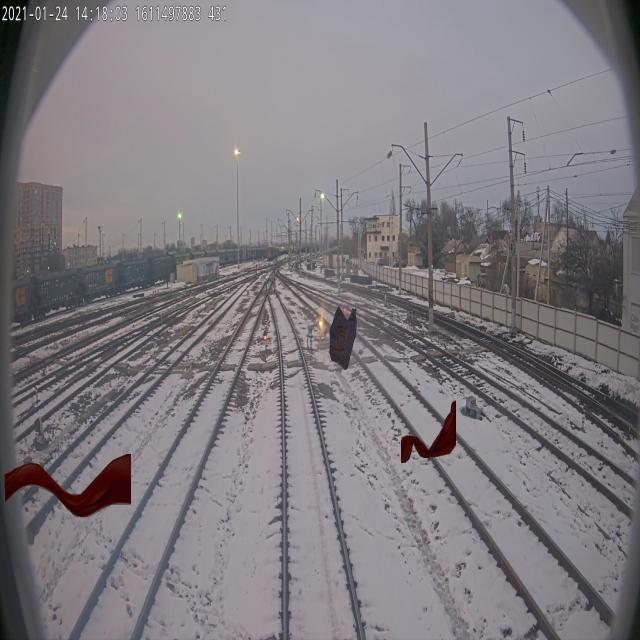floating object: (5, 453, 131, 518), (401, 400, 456, 464)
plastic bag: (329, 306, 357, 370)
